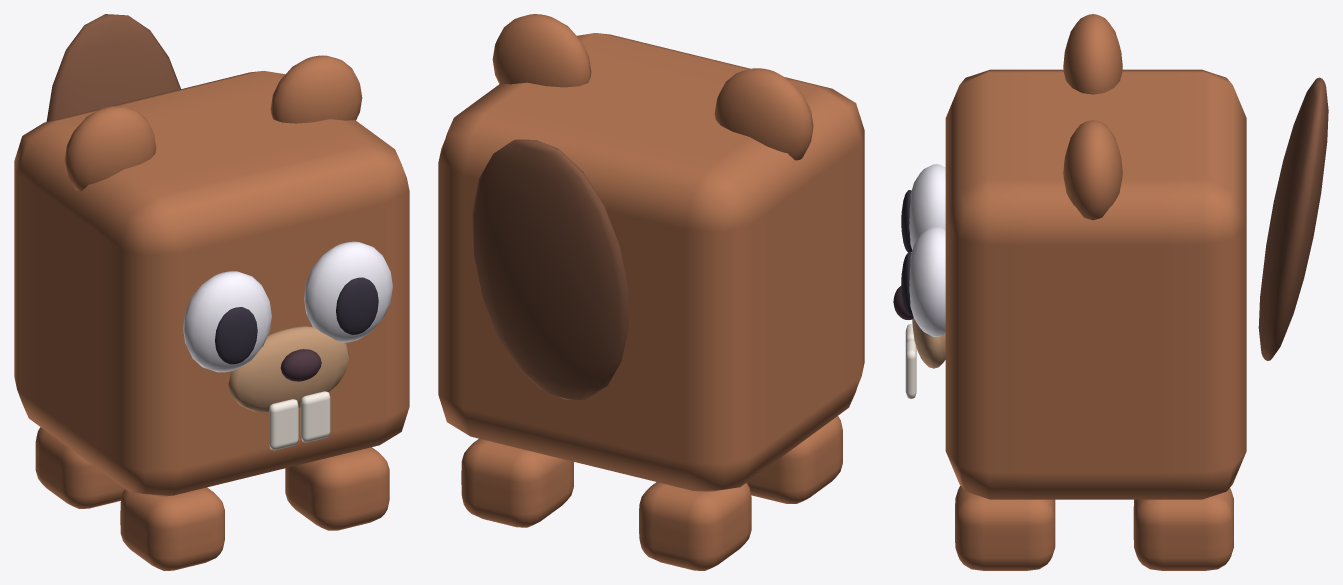
The model's file is pet-beaver.glb.
3 renders of one model, left to right at view 1: azimuth 30°, elevation 25°; view 2: azimuth 150°, elevation 25°; view 3: azimuth 270°, elevation 25°, orthographic. The views are drawn at different scales.
Visible parts, largest first — view 1: body, paddle_tail, foot_L_front, foot_R_front, muzzle, ear_-1, eye_white_-1, eye_white_1, ear_1, foot_L_back, tooth (×2), pupil_-1 (+2 smaller); view 2: body, paddle_tail, foot_L_back, foot_R_back, ear_-1, ear_1, foot_L_front; view 3: body, paddle_tail, foot_R_front, foot_R_back, ear_1, ear_-1, eye_white_1, eye_white_-1, muzzle, tooth.
Part boxes in pixels (x1,y1,x2,y2): body: (14,71,409,496); paddle_tail: (46,14,180,121); foot_L_front: (120,487,224,570); foot_R_front: (285,447,389,530); muzzle: (228,326,349,412); ear_-1: (64,105,156,191); eye_white_-1: (183,271,271,372); eye_white_1: (304,241,392,342); ear_1: (270,55,362,123); foot_L_back: (35,427,124,508); tooth (×2): (269,391,330,450); pupil_-1: (215,307,257,364); body: (438,33,864,492); paddle_tail: (472,139,628,399); foot_L_back: (639,482,751,570); foot_R_back: (461,438,573,527); ear_-1: (714,68,813,160); ear_1: (492,14,591,87); foot_L_front: (746,416,842,503); body: (945,69,1246,499); paddle_tail: (1258,77,1328,360); foot_R_front: (955,485,1055,570); foot_R_back: (1133,488,1233,570); ear_1: (1063,120,1122,220); ear_-1: (1063,14,1122,94); eye_white_1: (909,226,945,336); eye_white_-1: (909,164,945,249); muzzle: (912,317,945,368); tooth: (905,340,916,398).
Size of the model in its own units: 1.14 by 1.57 by 1.39.
